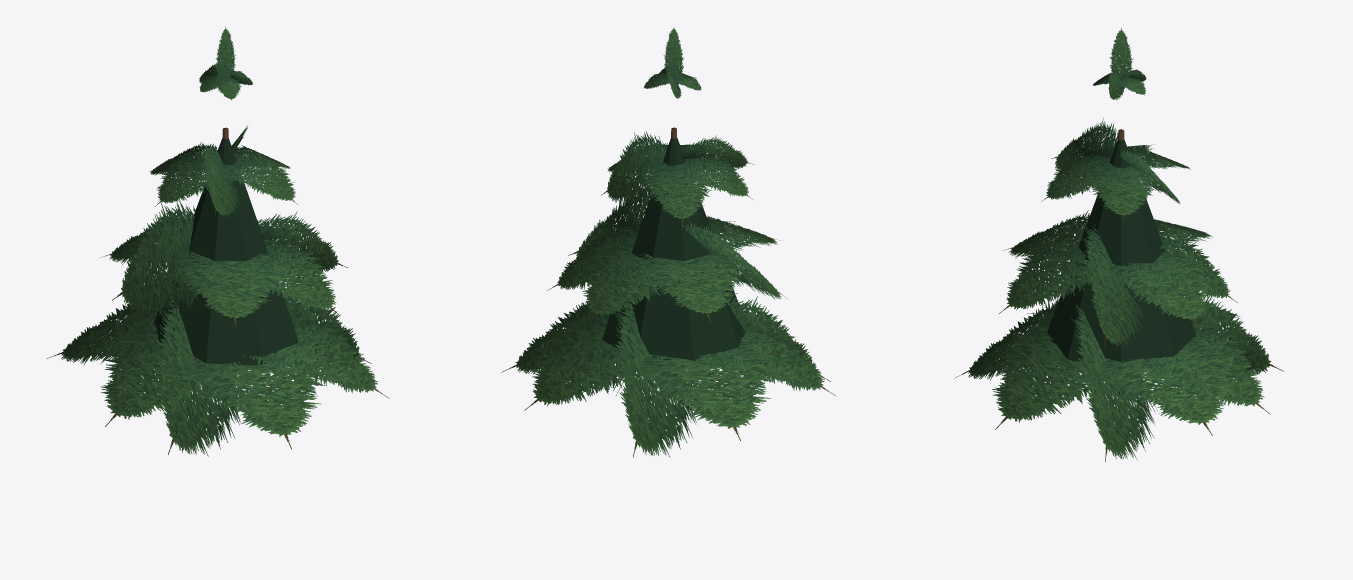
The model's file is pine-b.glb.
3 renders of one model, left to right at view 1: azimuth 30°, elevation 25°; view 2: azimuth 150°, elevation 25°; view 3: azimuth 270°, elevation 25°, orthographic.
Visible parts, largest first — view 1: pine-b; view 2: pine-b; view 3: pine-b.
Boxes of the visible parts, x1,y1,x2,y2 form: pine-b: (46, 26, 389, 456); pine-b: (501, 27, 835, 457); pine-b: (954, 27, 1283, 461).
Size of the model in its own units: 7.5 by 8.8 by 7.32.
Materials: 3 (1 with a texture image).
